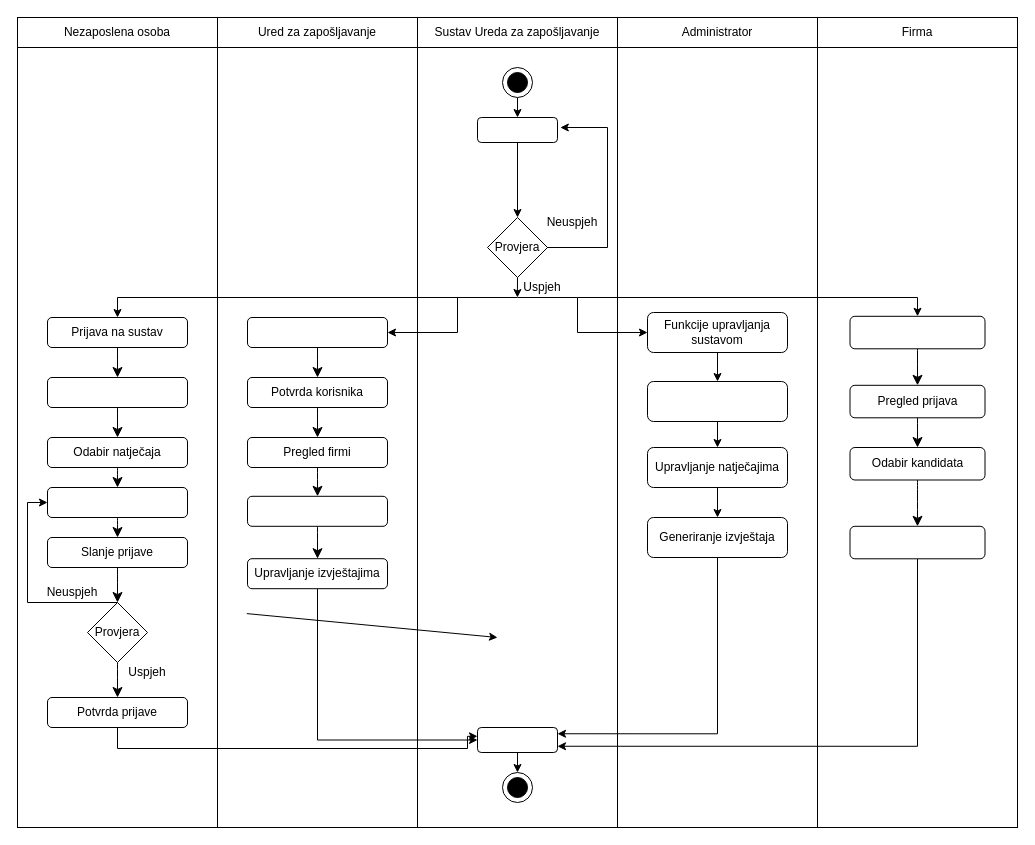
This 1035x845 diagram has some shape labels left out. The shapes that lost their labels are listed below. From the top down, each one's centre as x and y in pixels, then its label:
point 517,129: Prijava
point 317,332: Pregled korisnika
point 917,332: Objava natječaja
point 117,392: Pregled otvorenih natječaja
point 717,401: Funkcije upravljanja korisnicima
point 117,502: Popunjavanje prijave
point 317,510: Potvrda firmi
point 917,542: Obavijest o izboru
point 517,739: Odjava
